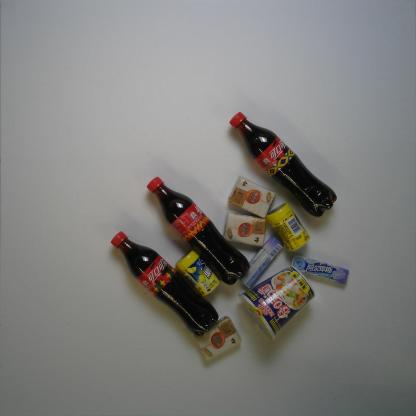Candy: (236, 232, 284, 291), (287, 251, 353, 286)
Drink: (226, 110, 342, 220), (109, 230, 221, 340), (144, 174, 252, 286)
Gum: (265, 201, 312, 255), (173, 247, 222, 298)
Instant Noodles: (237, 264, 318, 344)
Tissue: (188, 314, 246, 366), (225, 174, 278, 220), (219, 211, 269, 250)
